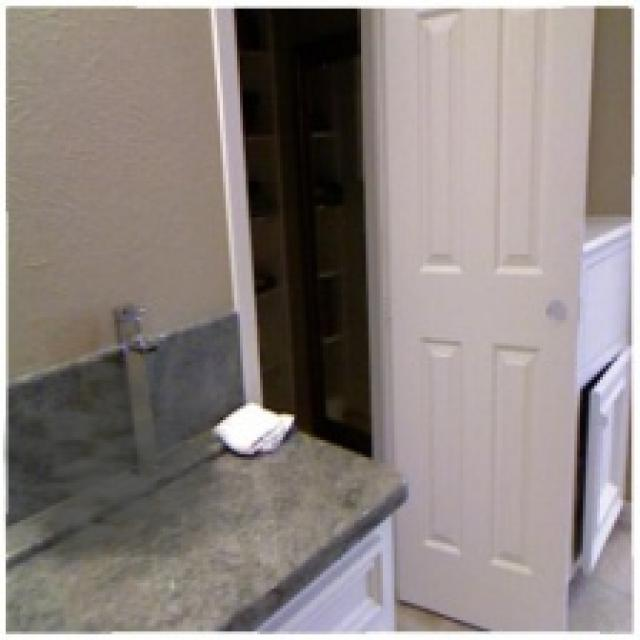smoke: (3, 363, 257, 574)
